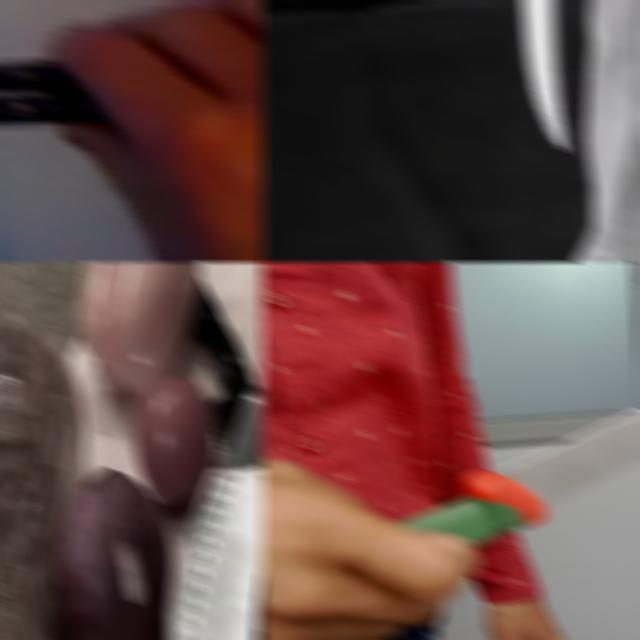Knife: (396, 409, 640, 546), (500, 0, 570, 152)
Knife_Handle: (259, 305, 640, 640), (490, 0, 592, 154)
